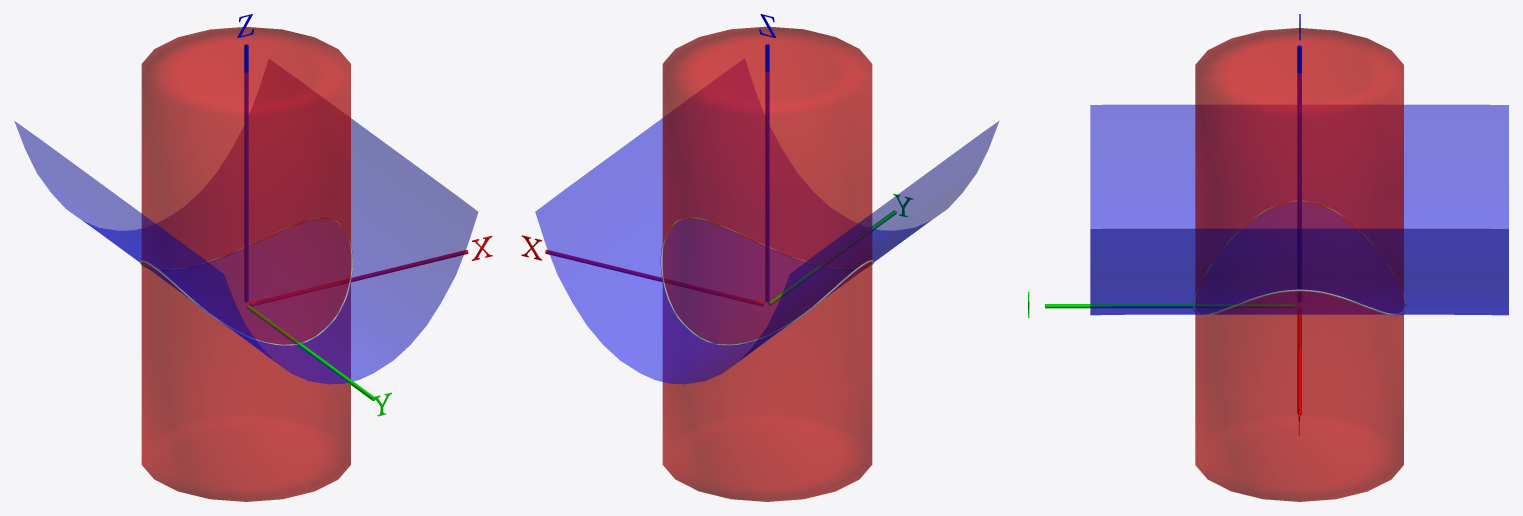
File: Cilindro Parabola.fbx
The picture shows the model from 3 angles, left to right: view 1: azimuth 30°, elevation 25°; view 2: azimuth 150°, elevation 25°; view 3: azimuth 270°, elevation 25°; orthographic projection.
Parts seen in each view (by area): view 1: Cylinder, parabola_01_, Eje_Z, default1, Eje_X, Eje_Y; view 2: Cylinder, parabola_01_, Eje_Z, default1, Eje_X; view 3: Cylinder, parabola_01_, Eje_Z, default1, Eje_Y.
Part boxes in pixels (box(x1,y1,x2,y2)): Cylinder: box(141, 26, 350, 501); parabola_01_: box(14, 118, 478, 384); Eje_Z: box(244, 44, 248, 302); default1: box(139, 217, 352, 346); Eje_X: box(249, 250, 468, 306); Eje_Y: box(247, 305, 375, 400); Cylinder: box(662, 26, 872, 501); parabola_01_: box(535, 118, 999, 384); Eje_Z: box(765, 44, 769, 302); default1: box(660, 217, 874, 346); Eje_X: box(545, 249, 763, 306); Cylinder: box(1195, 28, 1403, 501); parabola_01_: box(1090, 104, 1508, 315); Eje_Z: box(1297, 45, 1301, 302); default1: box(1193, 200, 1406, 315); Eje_Y: box(1045, 304, 1294, 308).
Bounding box in the file's own units: 237 × 267 × 265.
